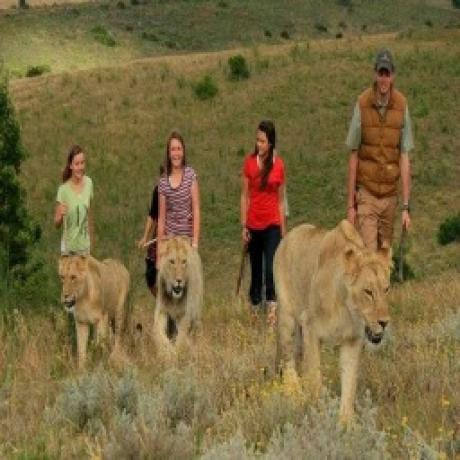Lion: (270, 217, 396, 408), (52, 244, 132, 357), (151, 231, 205, 351)
